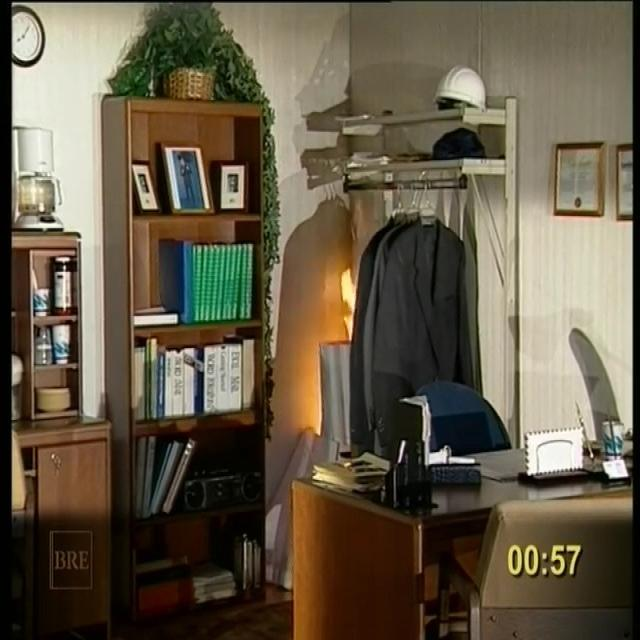Fire: (284, 202, 382, 550)
